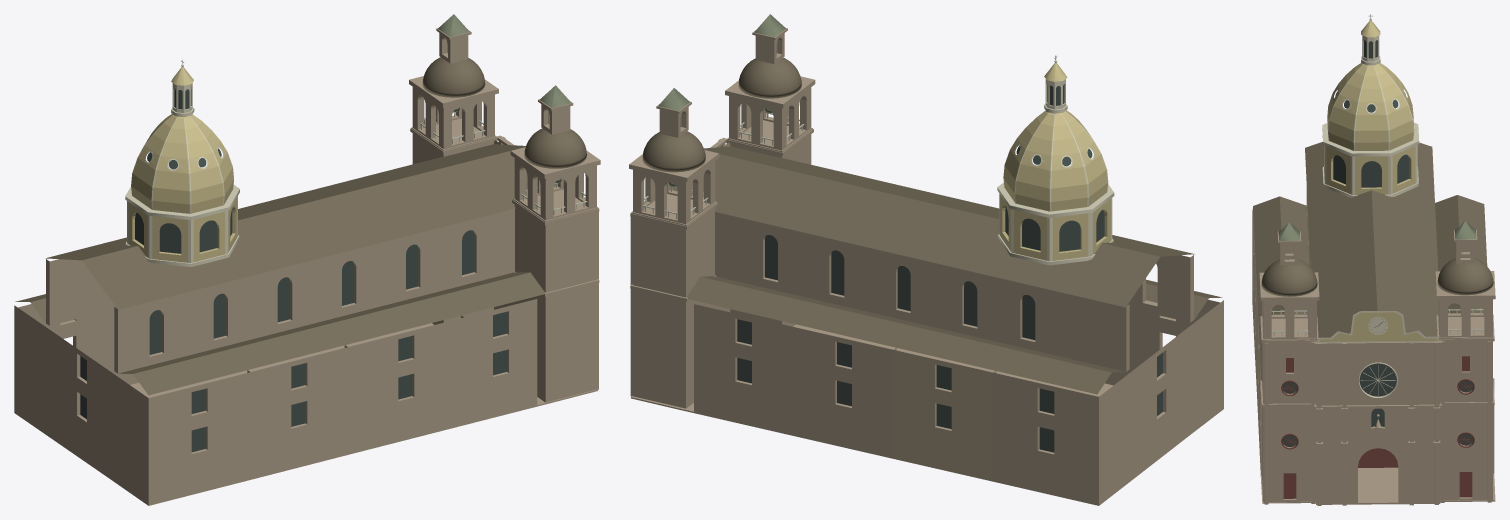
The model's file is san-pedro-claver-cartagena-near.glb.
3 renders of one model, left to right at view 1: azimuth 30°, elevation 25°; view 2: azimuth 150°, elevation 25°; view 3: azimuth 270°, elevation 25°, orthographic. The views are drawn at different scales.
Visible parts, largest first — view 1: san-pedro-claver-cartagena-0-stone, san-pedro-claver-cartagena-0-roof, san-pedro-claver-cartagena-0-cream, san-pedro-claver-cartagena-0-glass, san-pedro-claver-cartagena-0-trim, san-pedro-claver-cartagena-0-metal; view 2: san-pedro-claver-cartagena-0-stone, san-pedro-claver-cartagena-0-roof, san-pedro-claver-cartagena-0-cream, san-pedro-claver-cartagena-0-glass, san-pedro-claver-cartagena-0-trim, san-pedro-claver-cartagena-0-metal; view 3: san-pedro-claver-cartagena-0-stone, san-pedro-claver-cartagena-0-roof, san-pedro-claver-cartagena-0-cream, san-pedro-claver-cartagena-0-trim, san-pedro-claver-cartagena-0-glass, san-pedro-claver-cartagena-0-wood, san-pedro-claver-cartagena-0-metal.
Boxes of the visible parts, x1,y1,x2,y2 form: san-pedro-claver-cartagena-0-stone: [14, 28, 600, 505]; san-pedro-claver-cartagena-0-roof: [15, 57, 586, 395]; san-pedro-claver-cartagena-0-cream: [128, 67, 237, 262]; san-pedro-claver-cartagena-0-glass: [80, 88, 506, 452]; san-pedro-claver-cartagena-0-trim: [125, 64, 585, 266]; san-pedro-claver-cartagena-0-metal: [438, 14, 571, 182]; san-pedro-claver-cartagena-0-stone: [629, 28, 1223, 505]; san-pedro-claver-cartagena-0-roof: [642, 57, 1222, 394]; san-pedro-claver-cartagena-0-cream: [1000, 62, 1110, 260]; san-pedro-claver-cartagena-0-glass: [737, 84, 1162, 452]; san-pedro-claver-cartagena-0-trim: [645, 60, 1114, 265]; san-pedro-claver-cartagena-0-metal: [658, 14, 785, 186]; san-pedro-claver-cartagena-0-stone: [1252, 188, 1495, 505]; san-pedro-claver-cartagena-0-roof: [1253, 142, 1493, 380]; san-pedro-claver-cartagena-0-cream: [1319, 20, 1436, 341]; san-pedro-claver-cartagena-0-trim: [1273, 18, 1482, 398]; san-pedro-claver-cartagena-0-glass: [1283, 40, 1473, 446]; san-pedro-claver-cartagena-0-wood: [1281, 356, 1474, 498]; san-pedro-claver-cartagena-0-metal: [1278, 220, 1476, 333].
Bounding box in the file's own units: 57.77 × 44 × 28.98.
